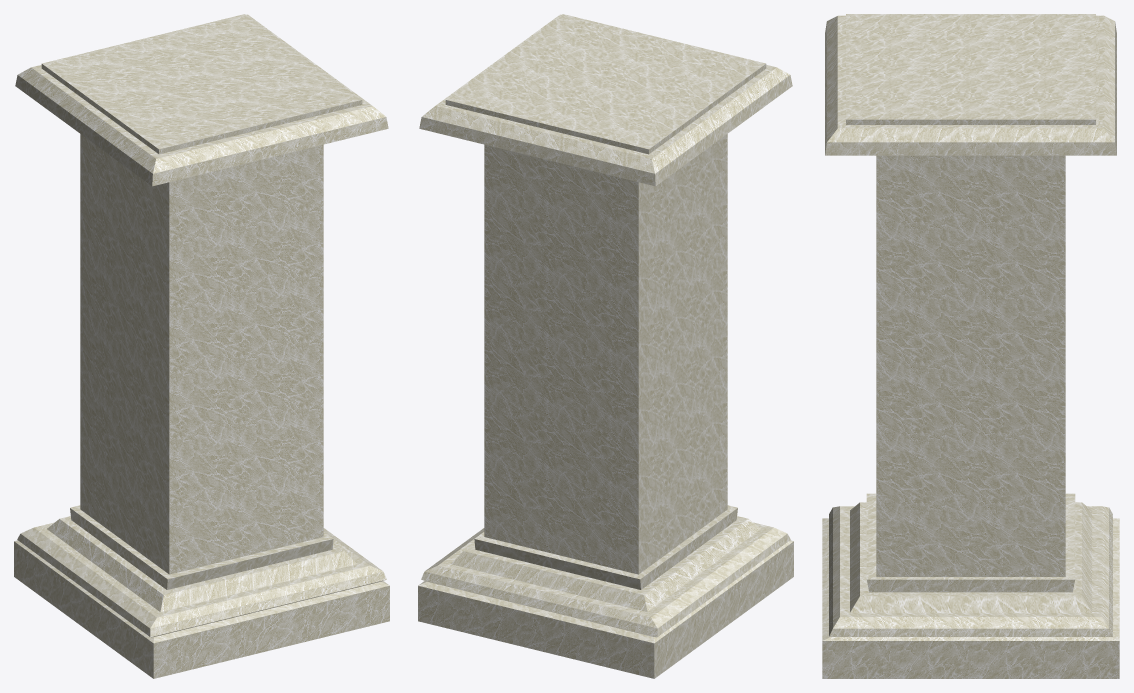
Rendered from Pedestal_1.5_3_1.5_Colored.fbx.
The picture shows the model from 3 angles, left to right: view 1: azimuth 30°, elevation 25°; view 2: azimuth 150°, elevation 25°; view 3: azimuth 270°, elevation 25°; orthographic projection. The views are drawn at different scales.
Parts seen in each view (by area): view 1: Pedestal_1_5_3_1_5_Scaled; view 2: Pedestal_1_5_3_1_5_Scaled; view 3: Pedestal_1_5_3_1_5_Scaled.
Part boxes in pixels (left/top/right/bottom): Pedestal_1_5_3_1_5_Scaled: left=14, top=14, right=389, bottom=678; Pedestal_1_5_3_1_5_Scaled: left=418, top=14, right=793, bottom=678; Pedestal_1_5_3_1_5_Scaled: left=822, top=14, right=1119, bottom=678.
Size of the model in its own units: 143 by 300 by 147.
1 material, 1 textured.
